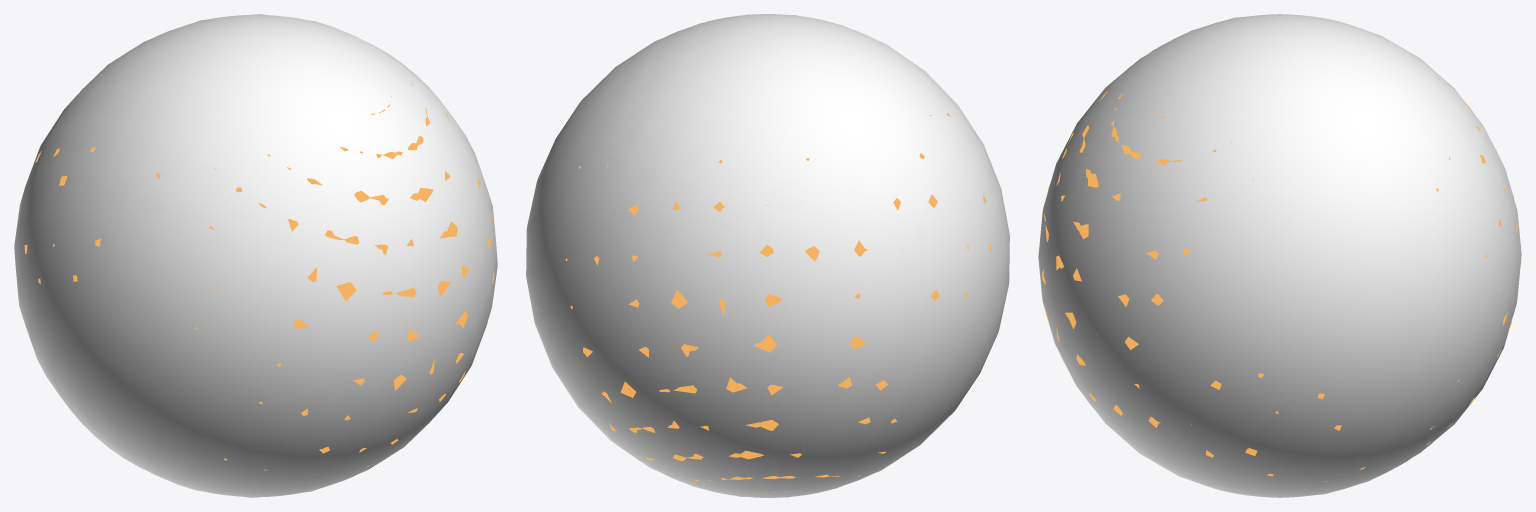
File: earth.glb
3 views of the same model, side by side, from view 1: azimuth 30°, elevation 25°; view 2: azimuth 150°, elevation 25°; view 3: azimuth 270°, elevation 25° (orthographic).
Visible parts, largest first — view 1: clouds, atmo, earth; view 2: clouds, atmo, earth; view 3: clouds, atmo, earth.
Part boxes in pixels (x1,y1,x2,y2): clouds: (14,14,497,497); atmo: (27,14,486,496); earth: (24,74,494,470); clouds: (526,14,1009,497); atmo: (564,14,990,497); earth: (536,113,991,492); clouds: (1038,14,1521,497); atmo: (1040,14,1516,497); earth: (1038,76,1521,481).
Bounding box in the file's own units: 20.08 × 20.15 × 20.03.
